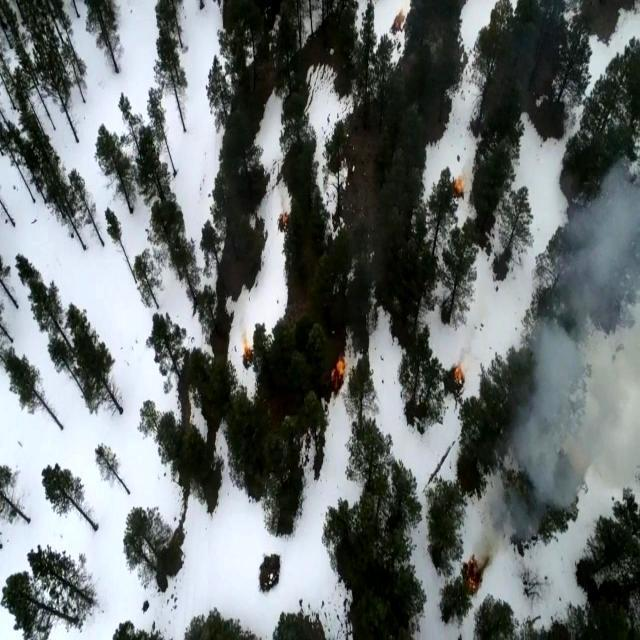Fire: (333, 350, 348, 388), (452, 358, 464, 388), (454, 167, 464, 199), (240, 336, 250, 356)
Smoke: (495, 154, 640, 584)
